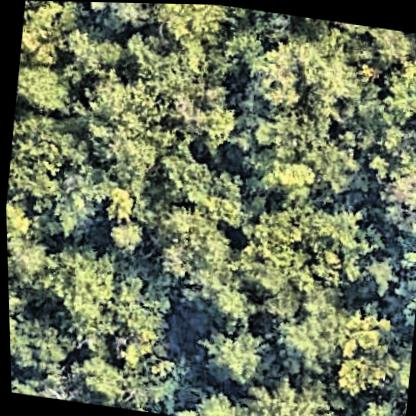tree-top: (251, 193, 379, 294), (69, 72, 170, 188), (248, 26, 356, 131), (264, 278, 350, 381), (145, 200, 235, 297), (324, 298, 401, 400), (28, 240, 117, 328), (3, 109, 75, 212), (94, 274, 169, 362), (153, 67, 234, 146), (190, 323, 270, 390), (40, 158, 107, 236), (7, 305, 72, 381), (143, 2, 229, 59), (148, 137, 213, 212), (249, 104, 331, 156), (15, 0, 71, 76), (11, 55, 76, 120), (239, 372, 335, 416), (250, 151, 322, 209), (114, 29, 188, 84), (370, 156, 416, 244), (66, 352, 131, 409), (59, 27, 127, 77), (378, 38, 416, 126), (197, 280, 253, 333), (380, 332, 412, 410), (180, 382, 251, 416), (73, 1, 146, 34), (360, 24, 414, 67), (387, 254, 416, 334), (351, 252, 393, 299), (9, 369, 69, 400), (95, 182, 136, 225), (373, 120, 416, 160), (102, 219, 145, 254), (339, 394, 396, 416), (7, 298, 18, 376)
